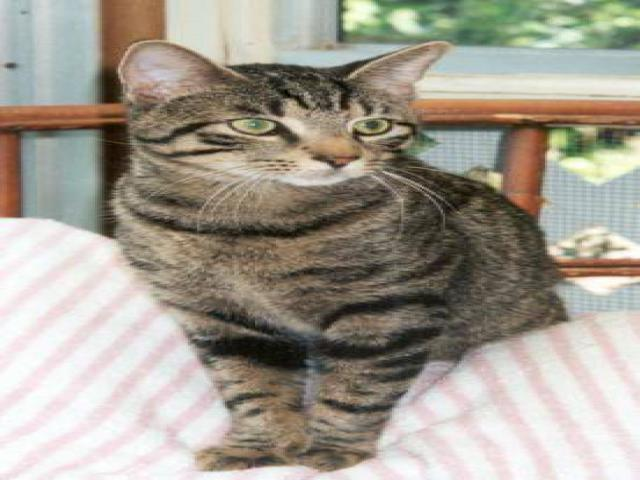cat: (100, 30, 578, 467)
